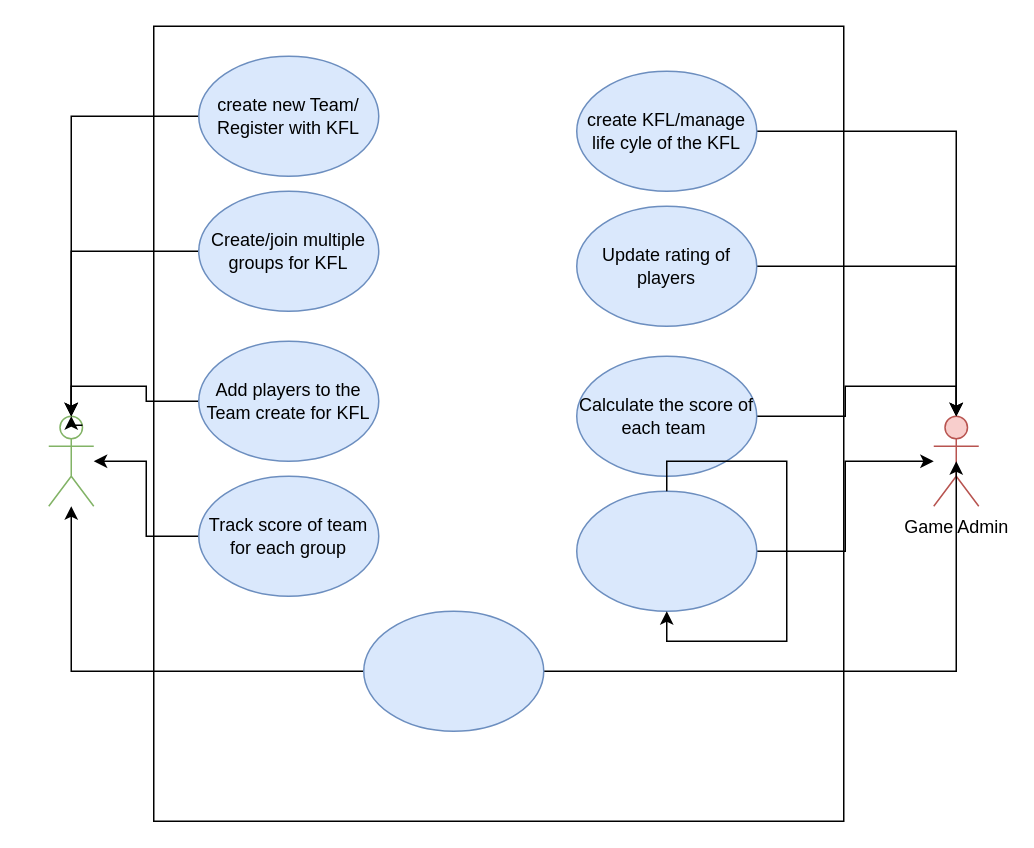
Image size: 1034x848. Some labels were removed from this diagram. The centre of each missing label's shape, as x and y in pixels:
"Find the winner of each group" belongs at (x=666, y=550).
"Game User" belongs at (x=70, y=460).
"update the reward for each winner" belongs at (x=453, y=670).
